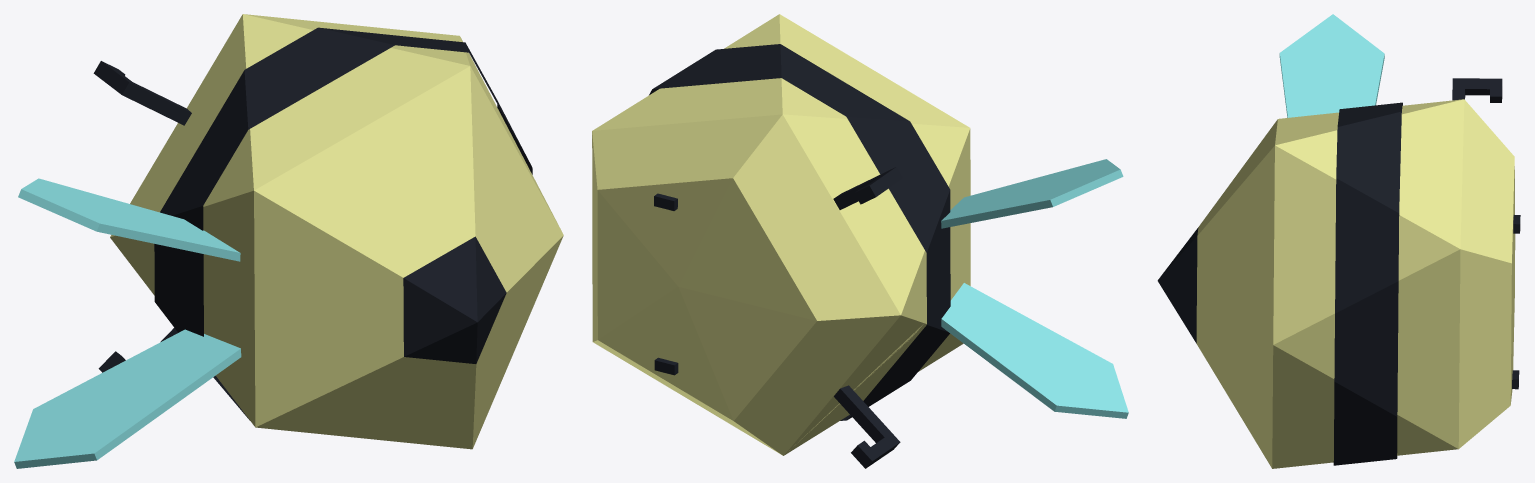
Rendered from bee_y_orientation.fbx.
The picture shows the model from 3 angles, left to right: view 1: azimuth 30°, elevation 25°; view 2: azimuth 150°, elevation 25°; view 3: azimuth 270°, elevation 25°; orthographic projection. The views are drawn at different scales.
Visible parts, largest first — view 1: bee; view 2: bee; view 3: bee.
Boxes of the visible parts, bbox=[...] form: bee: bbox=[14, 14, 563, 468]; bee: bbox=[592, 14, 1128, 468]; bee: bbox=[1157, 14, 1520, 468].
Bounding box in the file's own units: 40.64 × 28.96 × 28.89.
